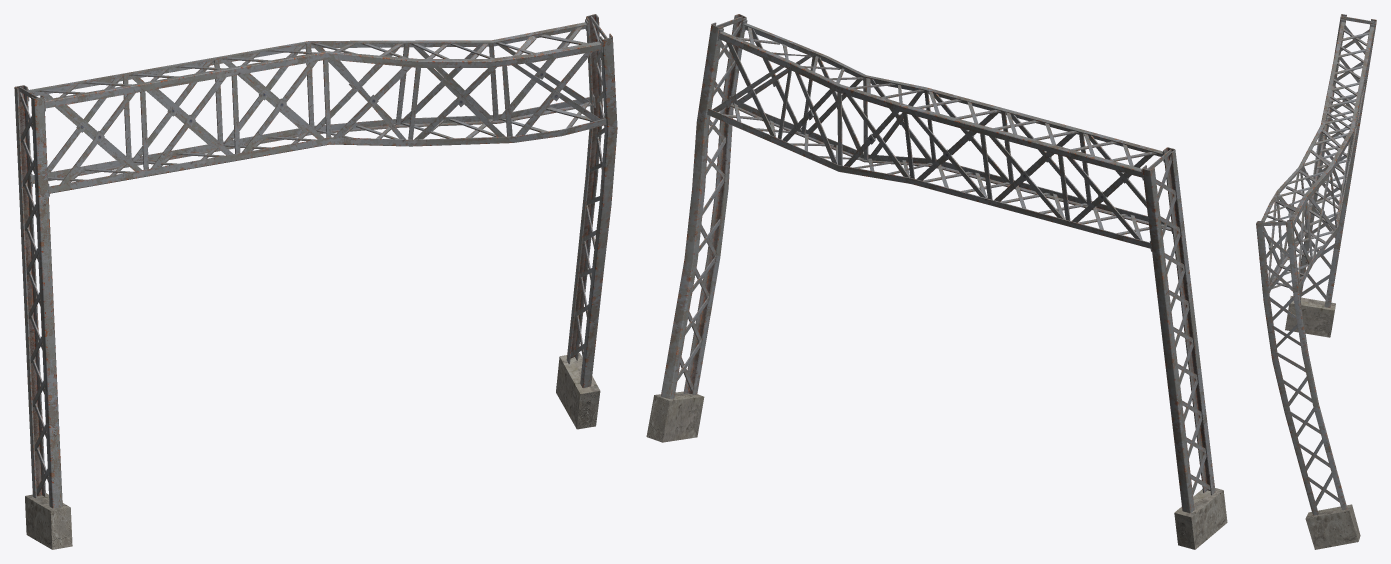
Rendered from Street_el1B.fbx.
3 renders of one model, left to right at view 1: azimuth 30°, elevation 25°; view 2: azimuth 150°, elevation 25°; view 3: azimuth 270°, elevation 25°, orthographic. The views are drawn at different scales.
Visible parts, largest first — view 1: polySurface146; view 2: polySurface146; view 3: polySurface146.
Part boxes in pixels (x1,y1,x2,y2): polySurface146: (14,14,617,549); polySurface146: (646,14,1227,549); polySurface146: (1256,14,1376,549).
Size of the model in its own units: 16.79 by 12.57 by 4.1.
